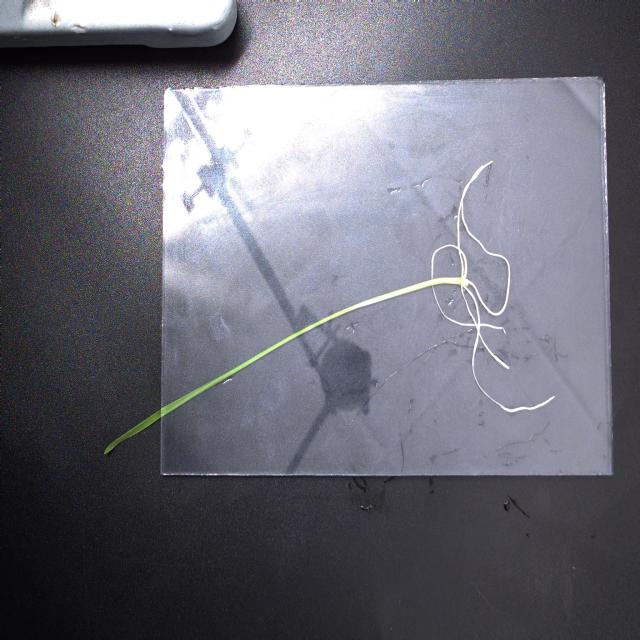leaf: (102, 306, 354, 453)
root: (429, 159, 558, 414)
stem: (354, 279, 463, 310)
